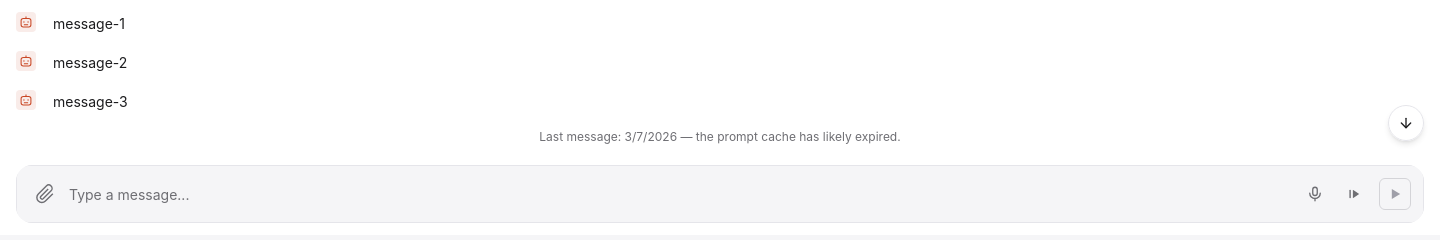
Scenario: ChatView › scrolls back to the latest message and hides itself when the button is clicked
(page scrolled)
Click the button with test id "scroll-to-bottom": (1406, 123) [1388,105,1424,141]
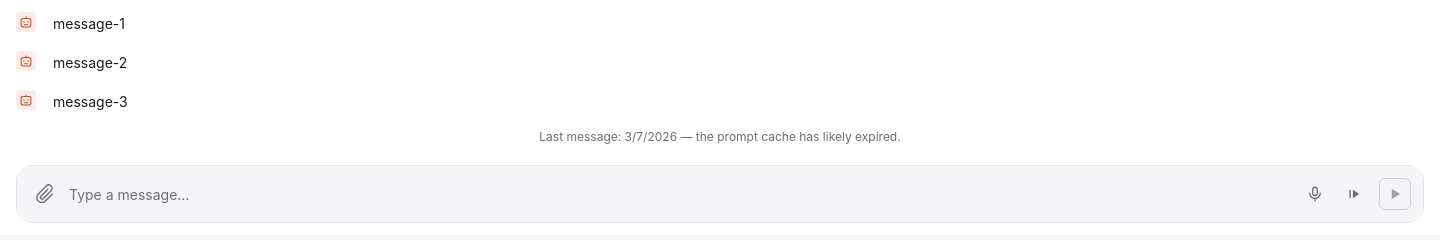
Result: the button with test id "scroll-to-bottom" is gone
